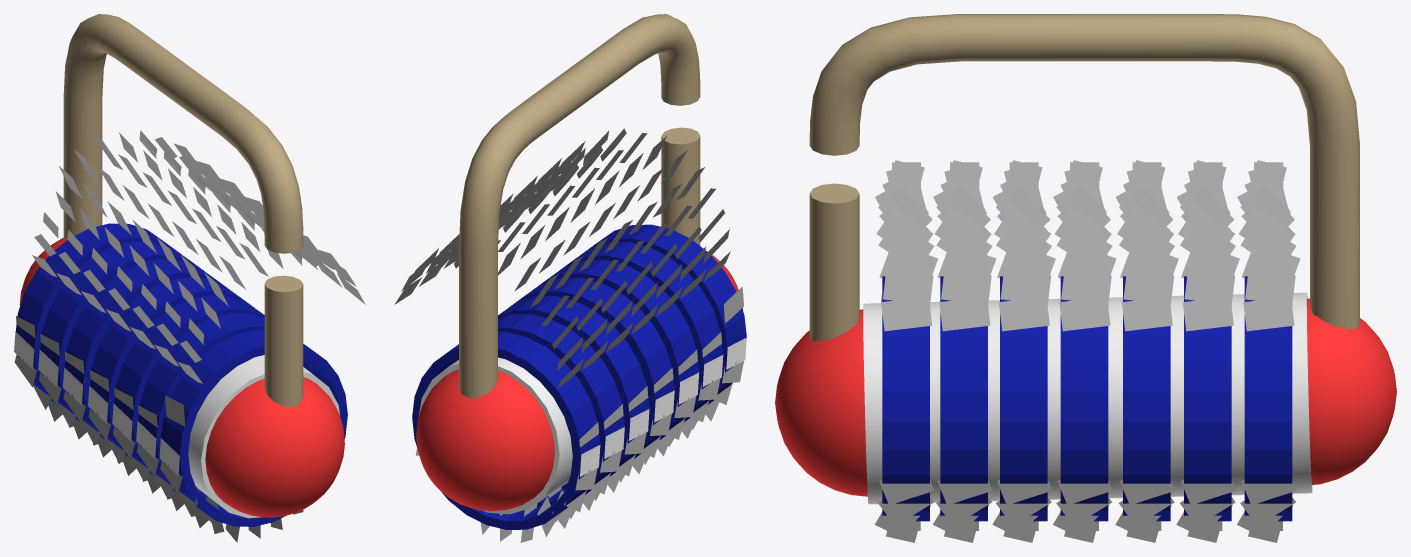
Rendered from LockBase_Final 1.fbx.
3 views of the same model, side by side, from view 1: azimuth 30°, elevation 25°; view 2: azimuth 150°, elevation 25°; view 3: azimuth 270°, elevation 25° (orthographic). The views are drawn at different scales.
Parts seen in each view (by area): view 1: Line003, Ends_1, LockKeys__5_, StationaryPin, LockKeys__2_, LockKeys__3_, LockKeys__1_, LockKeys__6_, LockKeys, LockKeys__4_, Cylinder, Plane_1 (+6 smaller); view 2: Line003, Ends, LockKeys__6_, LockKeys__3_, LockKeys__1_, LockKeys__2_, LockKeys, LockKeys__4_, LockKeys__5_, StationaryPin, Cylinder, Plane_27 (+7 smaller); view 3: Line003, Cylinder, Ends_1, Ends, LockKeys__1_, LockKeys__6_, LockKeys__4_, LockKeys__5_, LockKeys, LockKeys__3_, LockKeys__2_, StationaryPin (+42 smaller).
Boxes of the visible parts, <box> form: Line003: <box>63,14,303,253</box>; Ends_1: <box>205,377,344,517</box>; LockKeys__5_: <box>161,330,347,526</box>; StationaryPin: <box>264,275,303,406</box>; LockKeys__2_: <box>64,259,229,441</box>; LockKeys__3_: <box>40,241,204,422</box>; LockKeys__1_: <box>89,277,254,459</box>; LockKeys__6_: <box>15,223,180,404</box>; LockKeys: <box>114,295,264,476</box>; LockKeys__4_: <box>138,313,314,499</box>; Cylinder: <box>188,355,340,518</box>; Plane_1: <box>112,404,132,441</box>; Line003: <box>459,14,700,397</box>; Ends: <box>416,369,554,511</box>; LockKeys__6_: <box>412,332,600,529</box>; LockKeys__3_: <box>453,314,624,506</box>; LockKeys__1_: <box>509,277,674,458</box>; LockKeys__2_: <box>498,296,649,488</box>; LockKeys: <box>533,259,699,439</box>; LockKeys__4_: <box>559,242,723,421</box>; LockKeys__5_: <box>581,224,746,404</box>; StationaryPin: <box>661,127,700,245</box>; Cylinder: <box>418,357,572,514</box>; Plane_27: <box>726,337,746,369</box>; Line003: <box>809,14,1359,329</box>; Cylinder: <box>863,292,1312,504</box>; Ends_1: <box>775,309,867,496</box>; Ends: <box>1307,298,1396,484</box>; LockKeys__1_: <box>1060,276,1108,521</box>; LockKeys__6_: <box>1244,276,1292,521</box>; LockKeys__4_: <box>940,276,987,521</box>; LockKeys__5_: <box>882,276,929,521</box>; LockKeys: <box>1000,276,1047,521</box>; LockKeys__3_: <box>1184,276,1231,521</box>; LockKeys__2_: <box>1123,276,1170,521</box>; StationaryPin: <box>809,183,859,341</box>.
Size of the model in its own units: 564 by 1193 by 1305.
